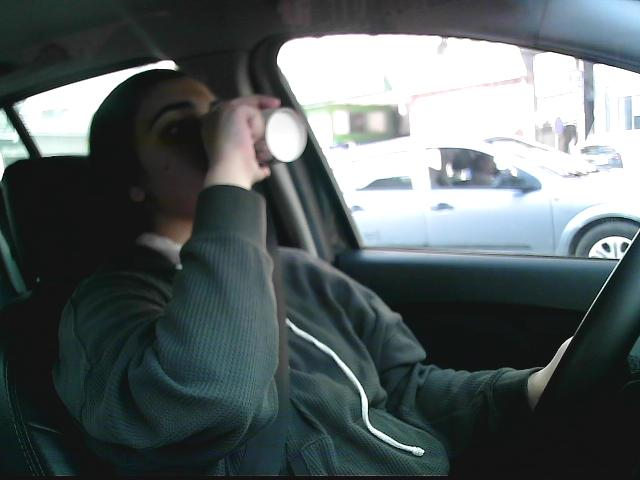Drinking: (211, 95, 314, 167)
